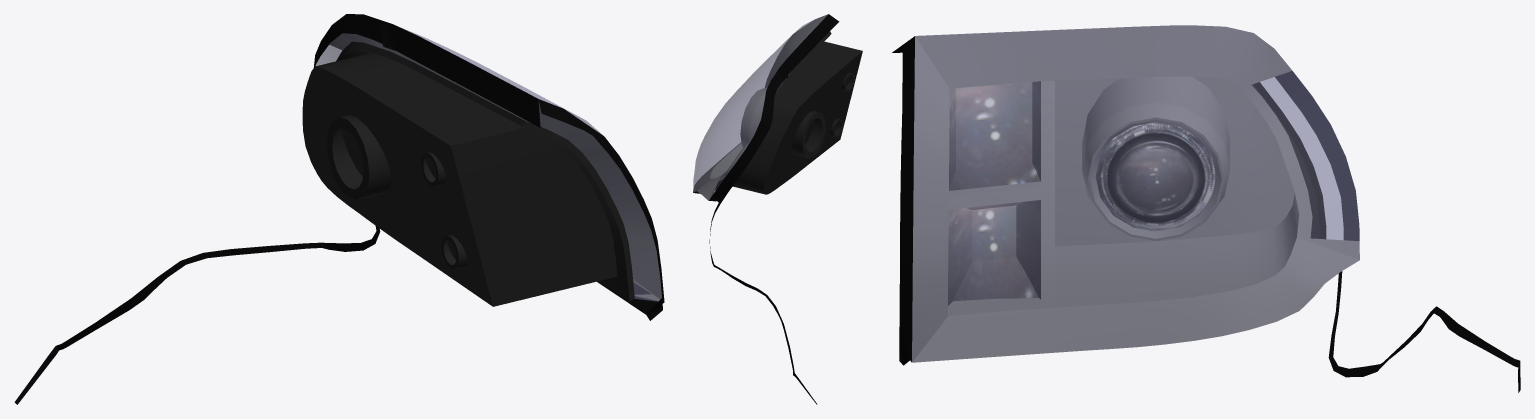
3 renders of one model, left to right at view 1: azimuth 30°, elevation 25°; view 2: azimuth 150°, elevation 25°; view 3: azimuth 270°, elevation 25°, orthographic. The views are drawn at different scales.
Parts seen in each view (by area): view 1: H713_061B_L_H713_061B_L_6_D, H713_061B_L_H713_061B_L_8_D, H713_061B_L_H713_061B_L_8_DTaSI, H713_061B_L_2_DaS_H713_061B_L; view 2: H713_061B_L_H713_061B_L_6_D, H713_061B_L_H713_061B_L_8_DTaSI, H713_061B_L_H713_061B_L_8_D, H713_061B_L_2_DaS_H713_061B_L; view 3: H713_061B_L_H713_061B_L_8_DTaSI, H713_061B_L_2_DaS_H713_061B_L, H713_061B_L_H713_061B_L_3_N, H713_061B_L_H713_061B_L_8_D, H713_061B_L_H713_061B_L_5_N, H713_061B_L_H713_061B_L_4_N, H713_061B_L_H713_061B_L_6_D.
Boxes of the visible parts, box(x1,y1,x2,y2) form: H713_061B_L_H713_061B_L_6_D: box(302, 41, 634, 306); H713_061B_L_H713_061B_L_8_D: box(14, 14, 664, 404); H713_061B_L_H713_061B_L_8_DTaSI: box(315, 26, 661, 301); H713_061B_L_2_DaS_H713_061B_L: box(329, 33, 661, 300); H713_061B_L_H713_061B_L_6_D: box(715, 31, 862, 194); H713_061B_L_H713_061B_L_8_DTaSI: box(693, 14, 827, 200); H713_061B_L_H713_061B_L_8_D: box(693, 14, 839, 404); H713_061B_L_2_DaS_H713_061B_L: box(693, 14, 827, 200); H713_061B_L_H713_061B_L_8_DTaSI: box(912, 25, 1359, 362); H713_061B_L_2_DaS_H713_061B_L: box(912, 25, 1359, 362); H713_061B_L_H713_061B_L_3_N: box(1096, 122, 1216, 231); H713_061B_L_H713_061B_L_8_D: box(892, 36, 1520, 392); H713_061B_L_H713_061B_L_5_N: box(949, 81, 1040, 190); H713_061B_L_H713_061B_L_4_N: box(948, 200, 1040, 305); H713_061B_L_H713_061B_L_6_D: box(1252, 82, 1326, 239).
Bounding box in the file's own units: 44.99 × 50.63 × 58.52.
